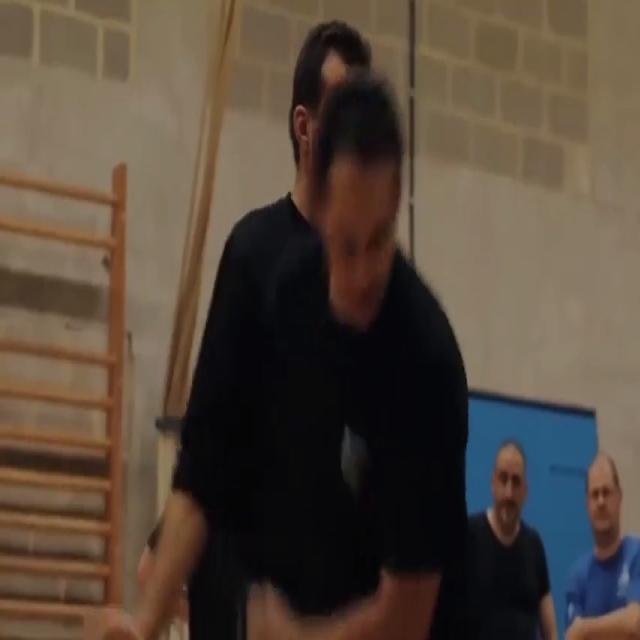fight: (100, 0, 524, 639)
non-fight: (531, 438, 639, 638)
